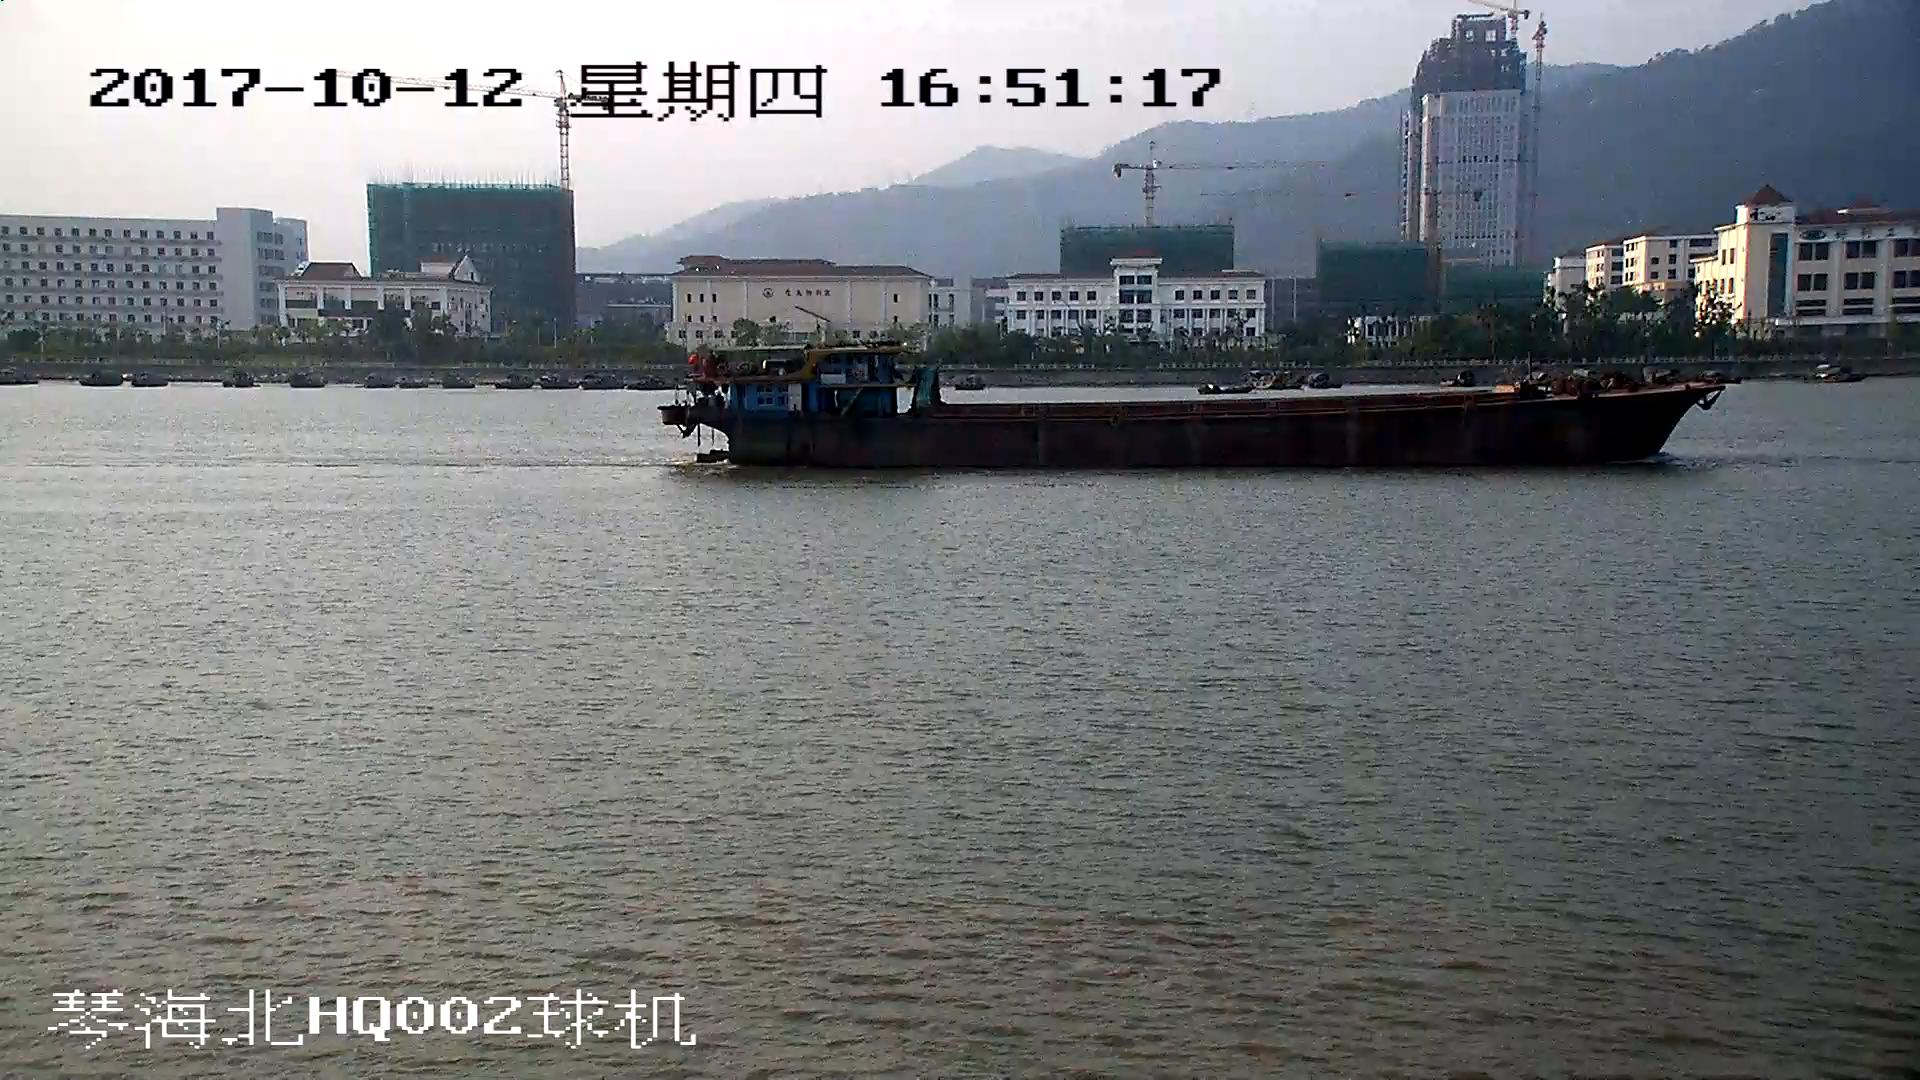bulk cargo carrier: (661, 347, 1721, 471)
